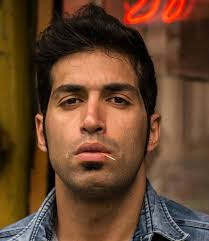middle_eastern_male: (46, 49, 157, 185)
